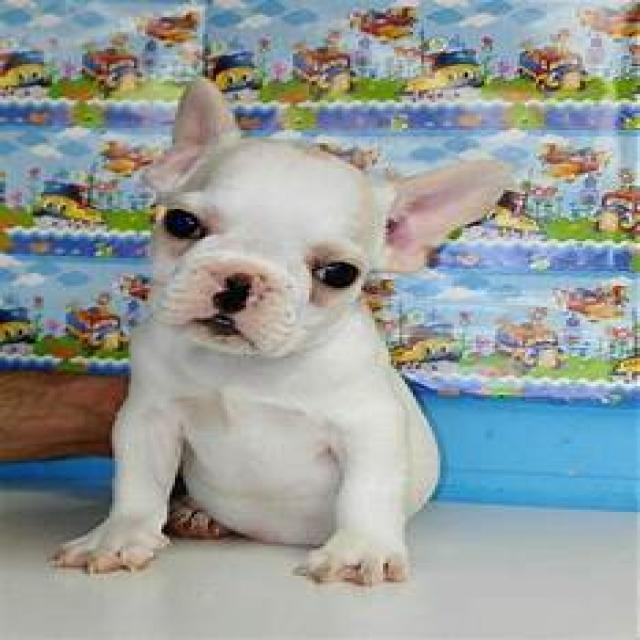FIL: (59, 81, 508, 600)
